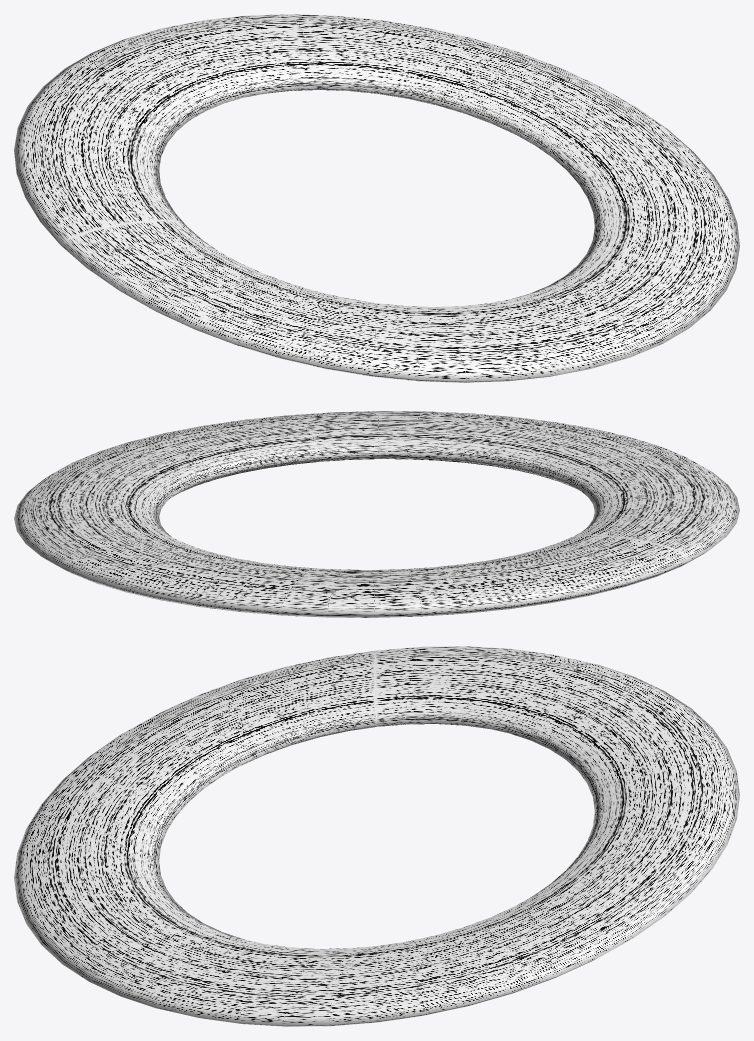
File: Satrun.fbx
3 views of the same model, one above another, from view 1: azimuth 30°, elevation 25°; view 2: azimuth 150°, elevation 25°; view 3: azimuth 270°, elevation 25° (orthographic).
Visible parts, largest first — view 1: Torus; view 2: Torus; view 3: Torus.
Part boxes in pixels (x1,y1,x2,y2): Torus: [14, 14, 739, 382]; Torus: [14, 411, 739, 617]; Torus: [14, 646, 739, 1026].
Size of the model in its own units: 408 by 72.24 by 406.
